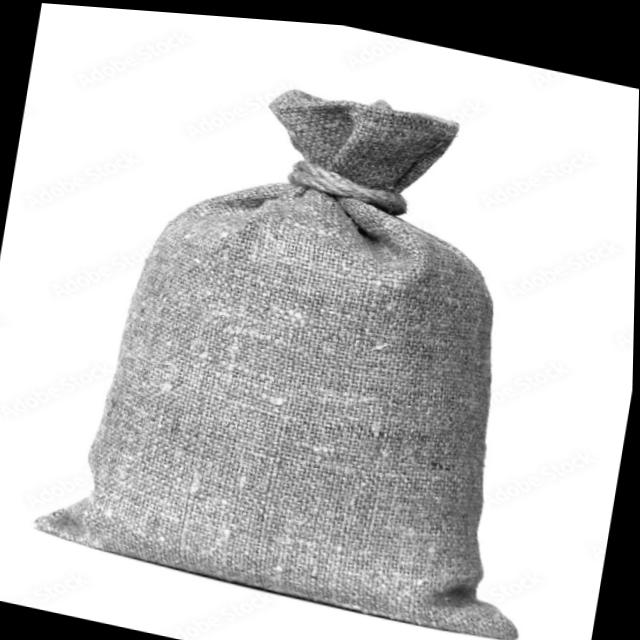sack: (33, 36, 598, 640)
